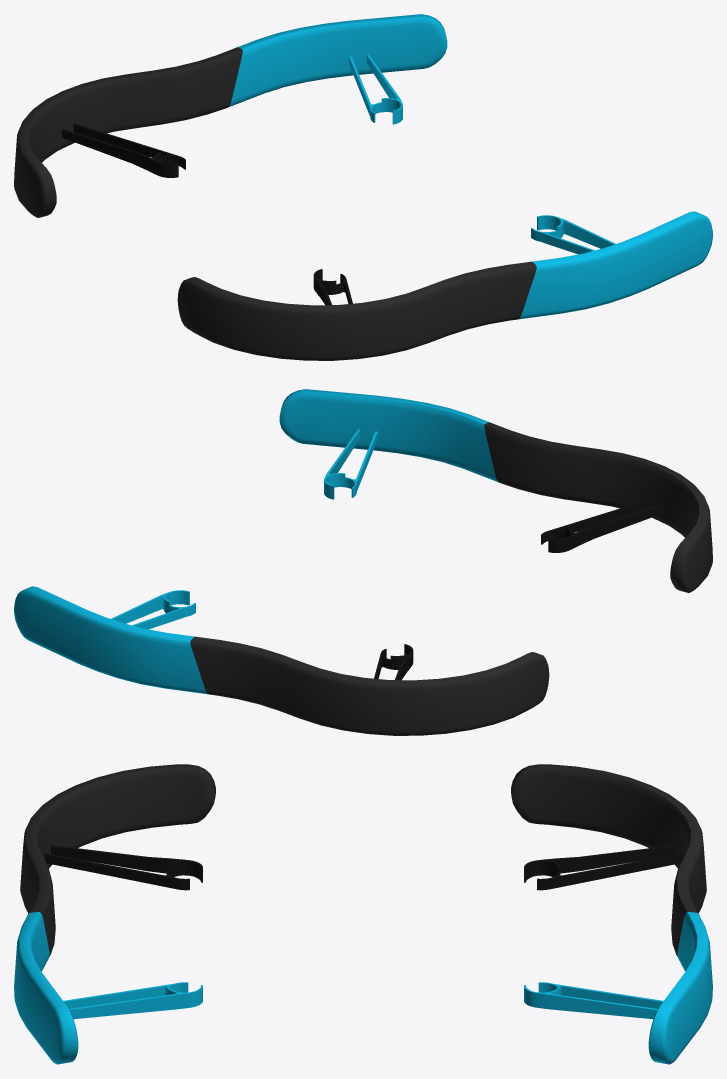
File: outdoor_hull.dae
3 renders of one model, top to bottom at view 1: azimuth 30°, elevation 25°; view 2: azimuth 150°, elevation 25°; view 3: azimuth 270°, elevation 25°, orthographic. The views are drawn at different scales.
Visible parts, largest first — view 1: protection; view 2: protection; view 3: protection.
Boxes of the visible parts, x1,y1,x2,y2 form: protection: (14,14,712,360); protection: (14,389,712,735); protection: (14,764,712,1064).
Size of the model in its own units: 0.33 by 0.3805 by 0.0344.
